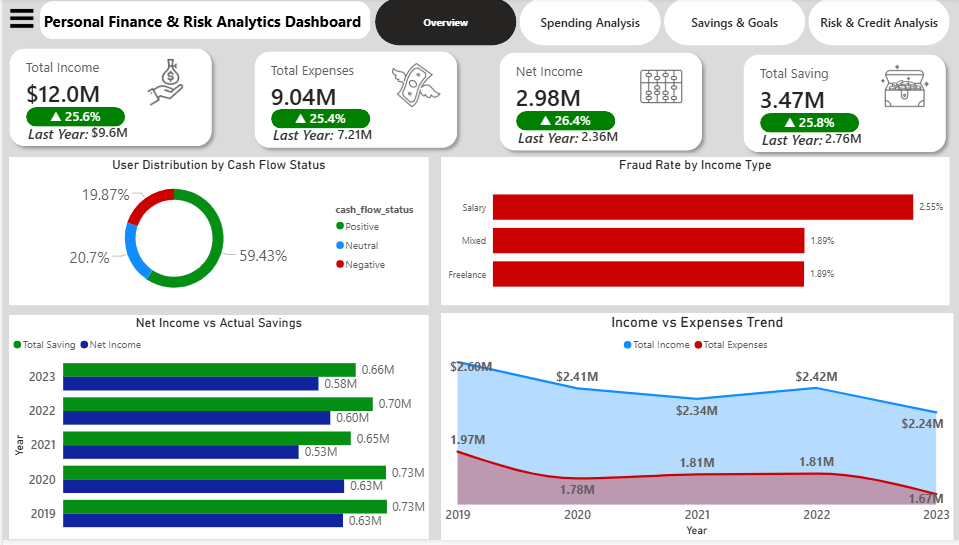

The page's visual inventory and layout, read from the dashboard file:
{"tool":"powerbi","page":{"name":"Overview","canvas":[1280,720],"ordinal":0},"visuals":[{"type":"group","id":"g1","title":"OVERVIEW PAGE ","box":[0,0,1263.2,721.3],"z":0},{"type":"pageNavigator","box":[493.9,0,767.5,63.4],"z":0,"group":"g1"},{"type":"shape","box":[0,57.9,286.1,147.2],"z":0,"group":"g10"},{"type":"shape","box":[325.8,62,286.8,145.4],"z":0,"group":"g11"},{"type":"shape","box":[650.9,64.1,286.8,147.4],"z":0,"group":"g12"},{"type":"shape","box":[976,66.2,286.1,147.2],"z":0,"group":"g13"},{"type":"shape","title":"YOY BG","box":[30.1,143.9,131.8,26.2],"z":0,"group":"g6"},{"type":"shape","title":"YOY BG","box":[356,147,132.1,25.9],"z":0,"group":"g7"},{"type":"shape","title":"YOY BG","box":[681.1,150.2,132.1,26.3],"z":0,"group":"g8"},{"type":"shape","title":"YOY BG","box":[1006.1,152.2,131.8,26.2],"z":0,"group":"g9"},{"type":"shape","title":"Last Year:","box":[33.5,166.3,89.1,20],"z":0,"group":"g2"},{"type":"shape","title":"Last Year:","box":[359.4,169.1,89.3,19.8],"z":0,"group":"g3"},{"type":"shape","title":"Last Year:","box":[684.5,172.7,89.3,20],"z":0,"group":"g4"},{"type":"shape","title":"Last Year:","box":[1009.5,174.6,89.1,20],"z":0,"group":"g5"},{"type":"cardVisual","fields":{"Data":["Meaasure.Total Income"]},"box":[13.8,63.4,260.5,98.5],"z":1000,"group":"g10"},{"type":"cardVisual","fields":{"Data":["Meaasure.Total Expenses"]},"box":[339.6,67.5,261.1,97.2],"z":1000,"group":"g11"},{"type":"cardVisual","fields":{"Data":["Meaasure.Net Income"]},"box":[664.7,69.6,261.1,98.6],"z":1000,"group":"g12"},{"type":"cardVisual","fields":{"Data":["Meaasure.Total Saving"]},"box":[989.8,71.7,260.5,98.5],"z":1000,"group":"g13"},{"type":"cardVisual","title":"YOY %","fields":{"Data":["Meaasure.YOY %"]},"box":[51.4,135.9,89.3,34.2],"z":1000,"group":"g6"},{"type":"cardVisual","title":"YOY %","fields":{"Data":["Meaasure.YOY for expense %"]},"box":[377.3,139.1,89.5,33.8],"z":1000,"group":"g7"},{"type":"cardVisual","title":"YOY %","fields":{"Data":["Meaasure.YOY net income %"]},"box":[702.4,142.2,89.5,34.3],"z":1000,"group":"g8"},{"type":"cardVisual","title":"YOY %","fields":{"Data":["Meaasure.YOY saving %"]},"box":[1027.4,144.2,89.3,34.2],"z":1000,"group":"g9"},{"type":"cardVisual","title":"LY ","fields":{"Data":["Meaasure.Last year Income"]},"box":[101.2,156.3,82,37.2],"z":1000,"group":"g2"},{"type":"cardVisual","title":"LY ","fields":{"Data":["Meaasure.Last year Expense"]},"box":[427.3,159.2,82.2,36.7],"z":1000,"group":"g3"},{"type":"cardVisual","title":"LY ","fields":{"Data":["Meaasure.Last year net Income"]},"box":[752.4,162.7,82.2,37.2],"z":1000,"group":"g4"},{"type":"cardVisual","title":"LY ","fields":{"Data":["Meaasure.Last year Saving"]},"box":[1077.2,164.6,82,37.2],"z":1000,"group":"g5"},{"type":"group","id":"g2","title":"Group 1","box":[33.5,156.3,149.7,37.2],"z":2000,"group":"g10"},{"type":"group","id":"g3","title":"Group 1","box":[359.4,159.2,150,36.7],"z":2000,"group":"g11"},{"type":"group","id":"g4","title":"Group 1","box":[684.5,162.7,150,37.2],"z":2000,"group":"g12"},{"type":"group","id":"g5","title":"Group 1","box":[1009.5,164.6,149.7,37.2],"z":2000,"group":"g13"},{"type":"lineChart","title":"Income vs Expenses Trend","fields":{"Y":["Meaasure.Total Income","Meaasure.Total Expenses"],"Category":["Calendar.Year"]},"box":[581.9,419.4,681.3,301.9],"z":2000,"group":"g1"},{"type":"group","id":"g6","title":"Group 2","box":[30.1,135.9,131.8,34.2],"z":3000,"group":"g10"},{"type":"group","id":"g7","title":"Group 2","box":[356,139.1,132.1,33.8],"z":3000,"group":"g11"},{"type":"group","id":"g8","title":"Group 2","box":[681.1,142.2,132.1,34.3],"z":3000,"group":"g12"},{"type":"group","id":"g9","title":"Group 2","box":[1006.1,144.2,131.8,34.2],"z":3000,"group":"g13"},{"type":"donutChart","title":"User Distribution by Cash Flow Status","fields":{"Category":["PERSONAL FINANCE TRACKER - Shee.cash_flow_status"],"Y":["Meaasure.Total User"]},"box":[7.5,211.8,557.9,196.9],"z":3000,"group":"g1"},{"type":"clusteredBarChart","title":"Net Income vs Actual Savings","fields":{"Category":["Calendar.Year"],"Y":["Meaasure.Total Saving","Meaasure.Net Income"]},"box":[7.5,420.7,557.9,298.4],"z":4000,"group":"g1"},{"type":"barChart","title":"Fraud Rate by Income Type","fields":{"Category":["PERSONAL FINANCE TRACKER - Shee.income_type"],"Y":["Meaasure.Fraud Rate"]},"box":[582.5,211.2,676.1,197],"z":5000,"group":"g1"},{"type":"group","id":"g10","title":"INcome kpis","box":[0,57.9,286.1,147.2],"z":6000,"group":"g1"},{"type":"group","id":"g11","title":"total Expenses","box":[325.8,62,286,147],"z":7000,"group":"g1"},{"type":"group","id":"g12","title":"Netincome","box":[650.9,64.1,286,147],"z":8000,"group":"g1"},{"type":"group","id":"g13","title":"total saving","box":[976,66.2,285.4,146.8],"z":9000,"group":"g1"},{"type":"shape","box":[49,3.8,439.2,50.9],"z":10000,"group":"g1"},{"type":"image","title":"MENU","box":[0,0,49.6,53.9],"z":11000,"group":"g1"}]}

Visuals, with their boxes in screenshot pixels (x1, y1, x2, y2), scaled from the page's 1280x720 canvas onto the 959x545 screenshot:
"OVERVIEW PAGE " group: <region>0, 0, 946, 544</region>
pageNavigator: <region>370, 0, 945, 48</region>
shape: <region>0, 44, 214, 155</region>
shape: <region>244, 47, 459, 157</region>
shape: <region>488, 49, 703, 160</region>
shape: <region>731, 50, 946, 162</region>
"YOY BG" shape: <region>23, 109, 121, 129</region>
"YOY BG" shape: <region>267, 111, 366, 131</region>
"YOY BG" shape: <region>510, 114, 609, 134</region>
"YOY BG" shape: <region>754, 115, 853, 135</region>
"Last Year:" shape: <region>25, 126, 92, 141</region>
"Last Year:" shape: <region>269, 128, 336, 143</region>
"Last Year:" shape: <region>513, 131, 580, 146</region>
"Last Year:" shape: <region>756, 132, 823, 147</region>
cardVisual - Meaasure.Total Income: <region>10, 48, 206, 123</region>
cardVisual - Meaasure.Total Expenses: <region>254, 51, 450, 125</region>
cardVisual - Meaasure.Net Income: <region>498, 53, 694, 127</region>
cardVisual - Meaasure.Total Saving: <region>742, 54, 937, 129</region>
"YOY %" cardVisual: <region>39, 103, 105, 129</region>
"YOY %" cardVisual: <region>283, 105, 350, 131</region>
"YOY %" cardVisual: <region>526, 108, 593, 134</region>
"YOY %" cardVisual: <region>770, 109, 837, 135</region>
"LY " cardVisual: <region>76, 118, 137, 146</region>
"LY " cardVisual: <region>320, 121, 382, 148</region>
"LY " cardVisual: <region>564, 123, 625, 151</region>
"LY " cardVisual: <region>807, 125, 868, 153</region>
"Group 1" group: <region>25, 118, 137, 146</region>
"Group 1" group: <region>269, 121, 382, 148</region>
"Group 1" group: <region>513, 123, 625, 151</region>
"Group 1" group: <region>756, 125, 868, 153</region>
"Income vs Expenses Trend" lineChart: <region>436, 317, 946, 544</region>
"Group 2" group: <region>23, 103, 121, 129</region>
"Group 2" group: <region>267, 105, 366, 131</region>
"Group 2" group: <region>510, 108, 609, 134</region>
"Group 2" group: <region>754, 109, 853, 135</region>
"User Distribution by Cash Flow Status" donutChart: <region>6, 160, 424, 309</region>
"Net Income vs Actual Savings" clusteredBarChart: <region>6, 318, 424, 544</region>
"Fraud Rate by Income Type" barChart: <region>436, 160, 943, 309</region>
"INcome kpis" group: <region>0, 44, 214, 155</region>
"total Expenses" group: <region>244, 47, 458, 158</region>
"Netincome" group: <region>488, 49, 702, 160</region>
"total saving" group: <region>731, 50, 945, 161</region>
shape: <region>37, 3, 366, 41</region>
"MENU" image: <region>0, 0, 37, 41</region>
